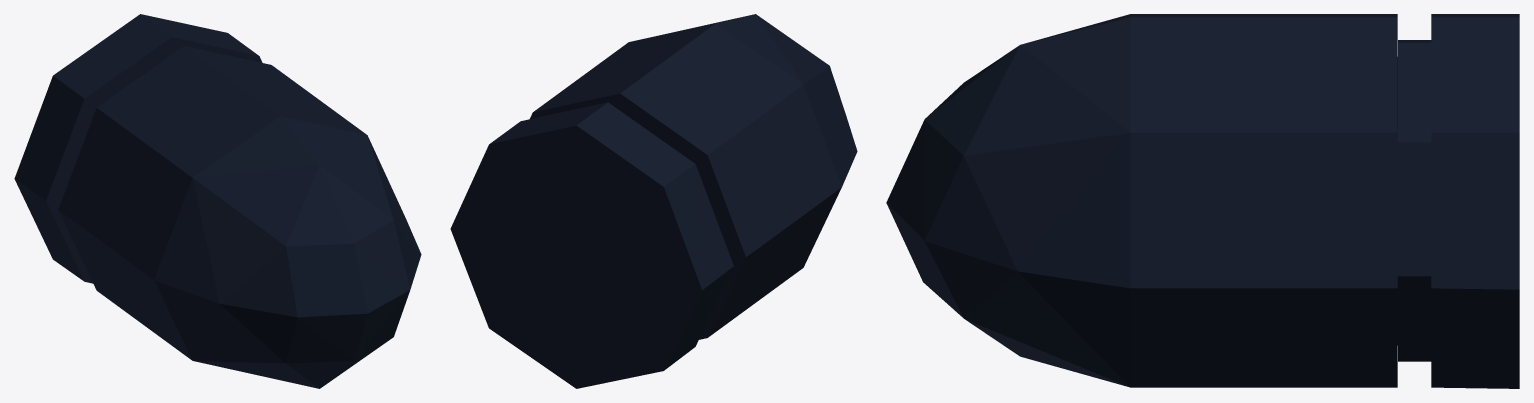
The model's file is killer_body.glb.
3 renders of one model, left to right at view 1: azimuth 30°, elevation 25°; view 2: azimuth 150°, elevation 25°; view 3: azimuth 270°, elevation 25°, orthographic. The views are drawn at different scales.
Visible parts, largest first — view 1: killer_body; view 2: killer_body; view 3: killer_body.
Part boxes in pixels (x1=…): killer_body: x1=14, y1=14, x2=421, y2=388; killer_body: x1=450, y1=14, x2=857, y2=388; killer_body: x1=886, y1=14, x2=1519, y2=388.
Size of the model in its own units: 6.09 by 6.09 by 9.53.
Materials: 1 (1 with a texture image).
